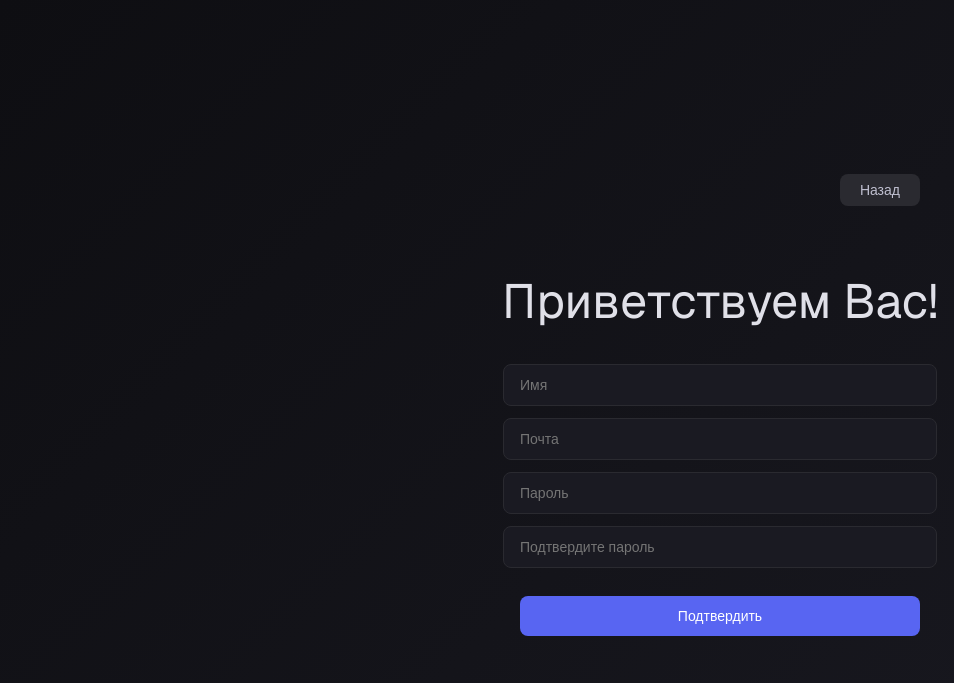
Test: Register_Page › shows error when username is too short
In the field with placeholder "Имя": (720, 385) [503, 364, 937, 406], type "ab"
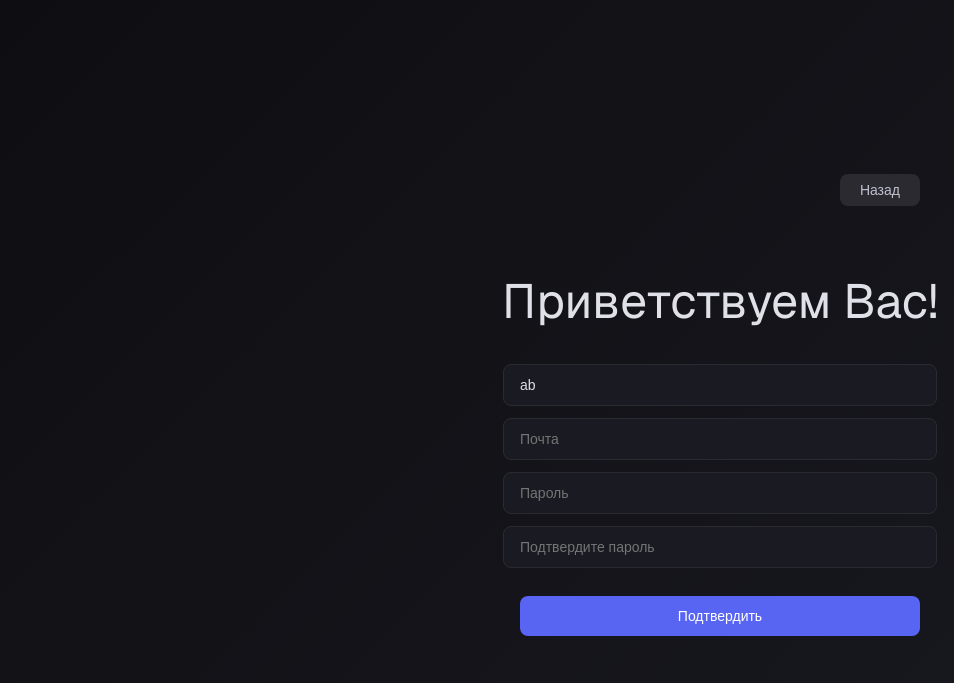
In the field with placeholder "Почта": (720, 439) [503, 418, 937, 460], type "test@test.com"
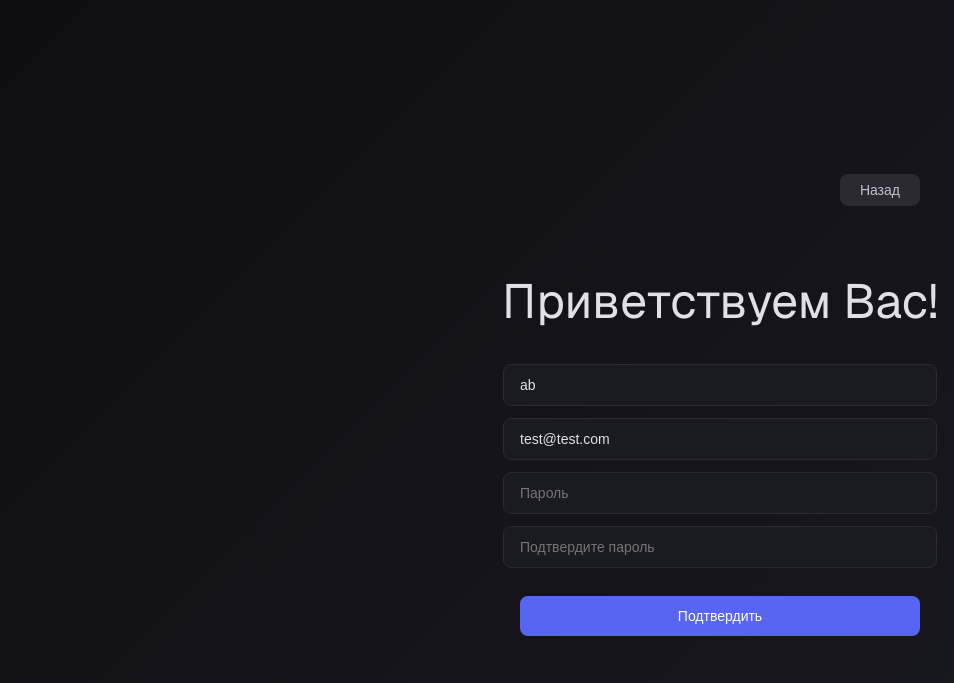
In the password field with placeholder "Пароль": (720, 493) [503, 472, 937, 514], type "password123"
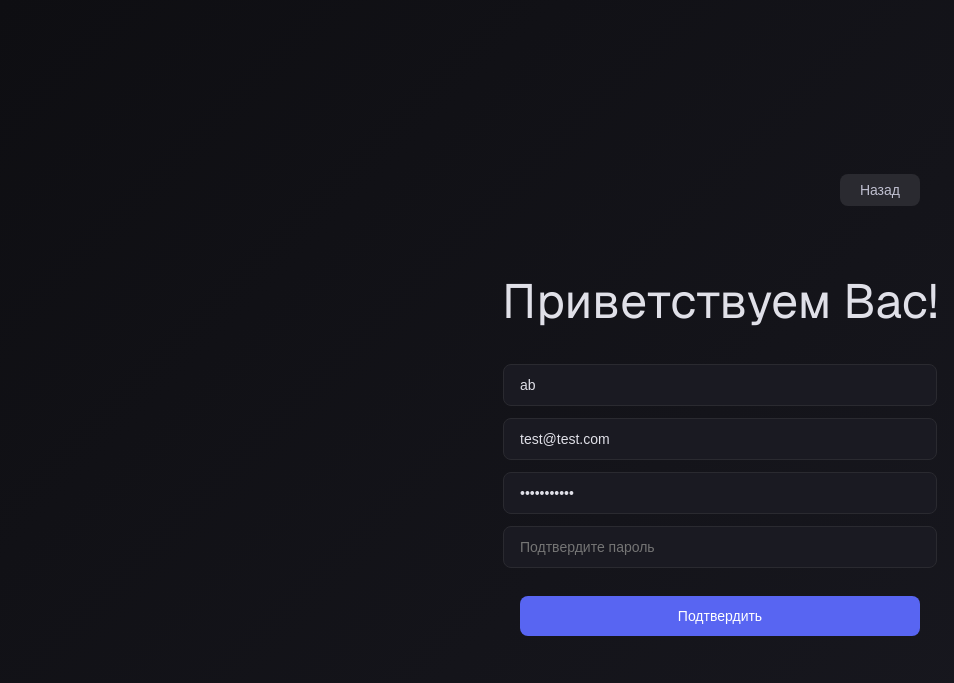
In the password field with placeholder "Подтвердите пароль": (720, 547) [503, 526, 937, 568], type "password123"
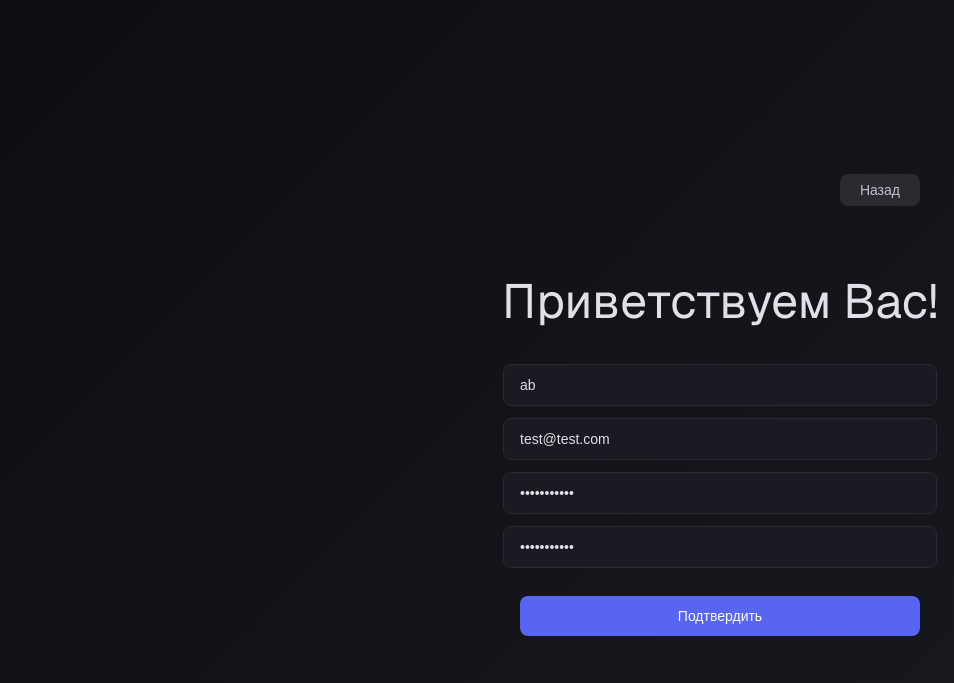
Submit the form, box [520, 364, 920, 636]
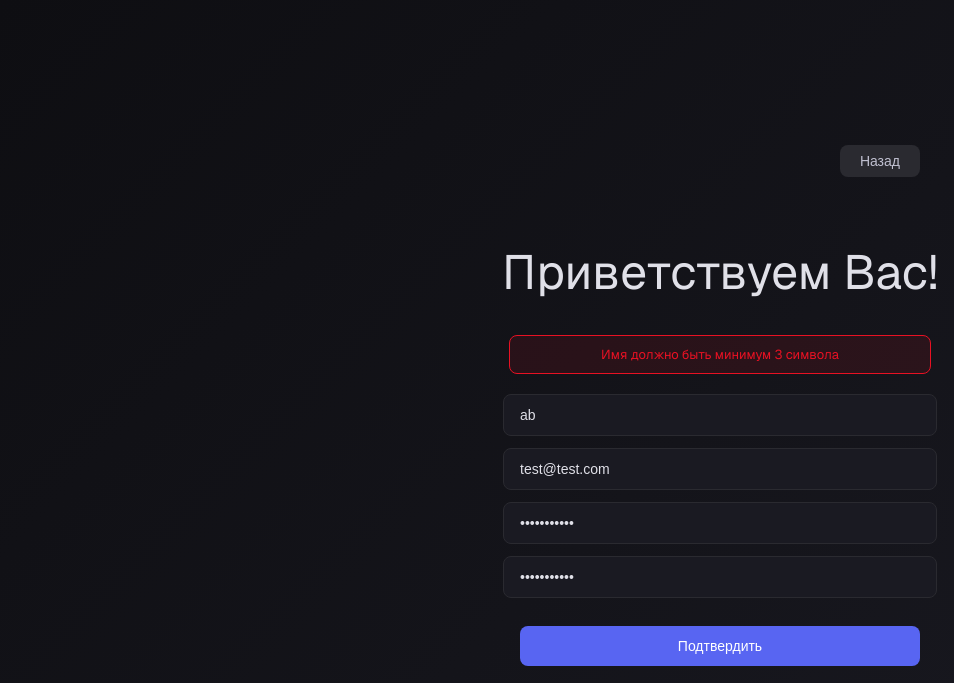
Check: the text "Имя должно быть минимум 3 символа" is shown, box [509, 334, 931, 374]
